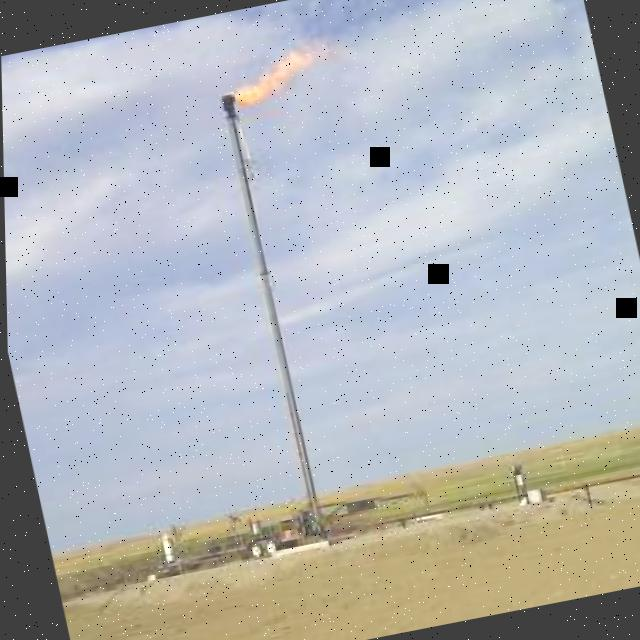fire: (227, 41, 334, 105)
